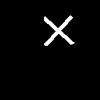single_crochet: (44, 16, 73, 45)
